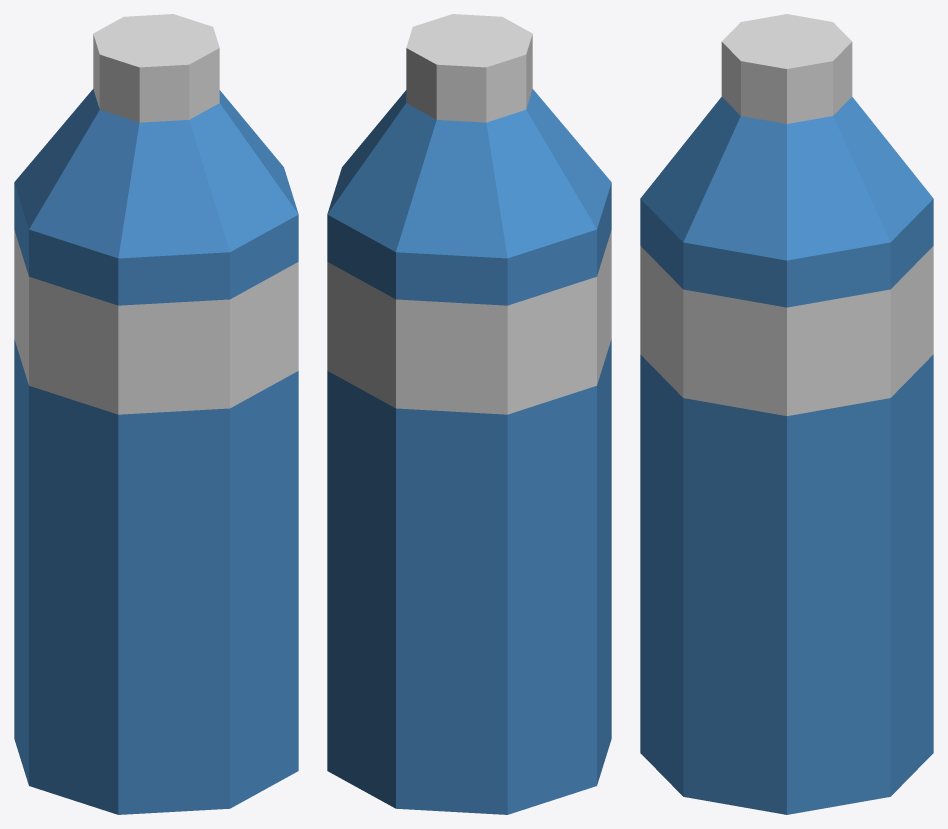
The model's file is Water_bottle_01_SkF.fbx.
3 views of the same model, side by side, from view 1: azimuth 30°, elevation 25°; view 2: azimuth 150°, elevation 25°; view 3: azimuth 270°, elevation 25° (orthographic).
Visible parts, largest first — view 1: Water_bottle_01; view 2: Water_bottle_01; view 3: Water_bottle_01.
Part boxes in pixels (x1,y1,x2,y2): Water_bottle_01: (14,14,298,814); Water_bottle_01: (327,14,611,814); Water_bottle_01: (640,14,933,814).
Size of the model in its own units: 8 by 21.41 by 8.
1 material, 1 textured.
